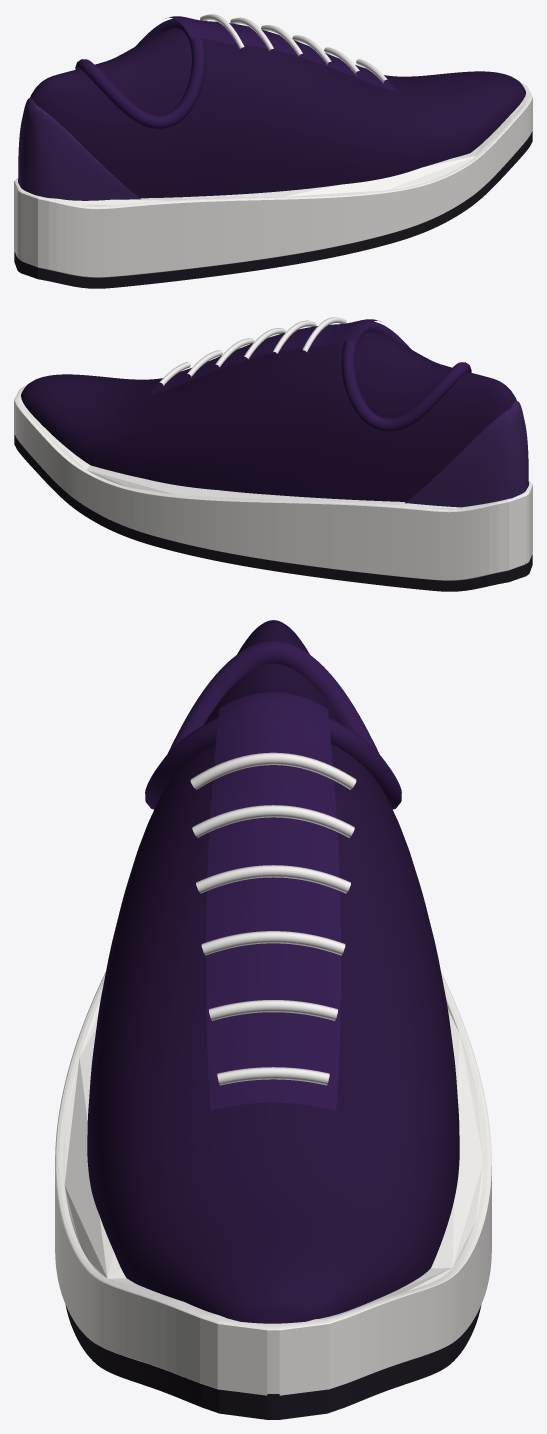
File: shoe-placeholder.glb
The picture shows the model from 3 angles, top to bottom: view 1: azimuth 30°, elevation 25°; view 2: azimuth 150°, elevation 25°; view 3: azimuth 270°, elevation 25°; orthographic projection. The views are drawn at different scales.
Parts seen in each view (by area): view 1: upper, midsole, heel, outsole, collar, tongue, laces; view 2: upper, midsole, heel, outsole, collar, tongue, laces; view 3: upper, midsole, tongue, laces, collar, outsole.
Boxes of the visible parts, bbox=[...] form: upper: bbox=[30, 28, 525, 198]; midsole: bbox=[14, 82, 532, 277]; heel: bbox=[18, 98, 140, 200]; outsole: bbox=[14, 131, 532, 288]; collar: bbox=[75, 18, 205, 129]; tongue: bbox=[165, 16, 397, 91]; laces: bbox=[200, 14, 387, 83]; upper: bbox=[21, 331, 516, 501]; midsole: bbox=[14, 385, 532, 580]; heel: bbox=[405, 401, 528, 507]; outsole: bbox=[14, 434, 532, 591]; collar: bbox=[341, 321, 471, 432]; tongue: bbox=[149, 319, 381, 394]; laces: bbox=[159, 317, 346, 386]; upper: bbox=[87, 620, 459, 1323]; midsole: bbox=[55, 972, 491, 1395]; tongue: bbox=[206, 692, 340, 1110]; laces: bbox=[190, 752, 356, 1085]; collar: bbox=[145, 641, 401, 809]; outsole: bbox=[65, 1305, 481, 1419].
Bounding box in the file's own units: 2.84 × 1.2 × 1.06.
